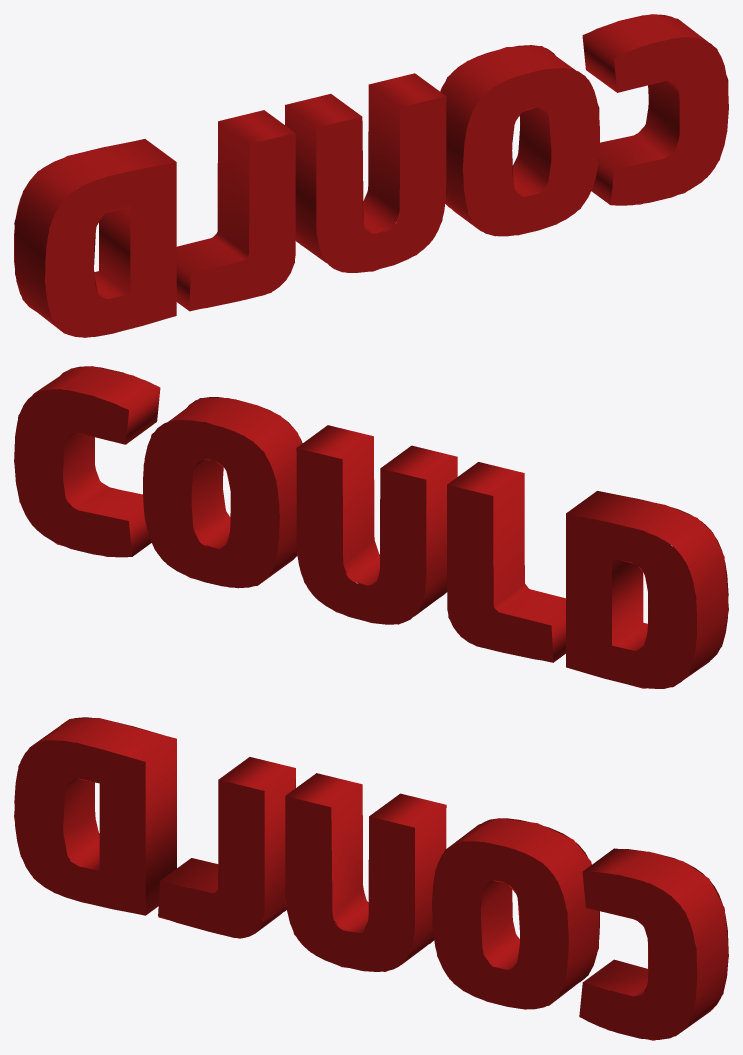
Rendered from could.fbx.
3 renders of one model, top to bottom at view 1: azimuth 30°, elevation 25°; view 2: azimuth 150°, elevation 25°; view 3: azimuth 330°, elevation 25°, orthographic.
Parts seen in each view (by area): view 1: Text; view 2: Text; view 3: Text.
Part boxes in pixels (<box>): Text: <box>14,14,728,337</box>; Text: <box>14,366,728,688</box>; Text: <box>14,717,728,1040</box>.
Bounding box in the file's own units: 10.07 × 2.27 × 0.8.
